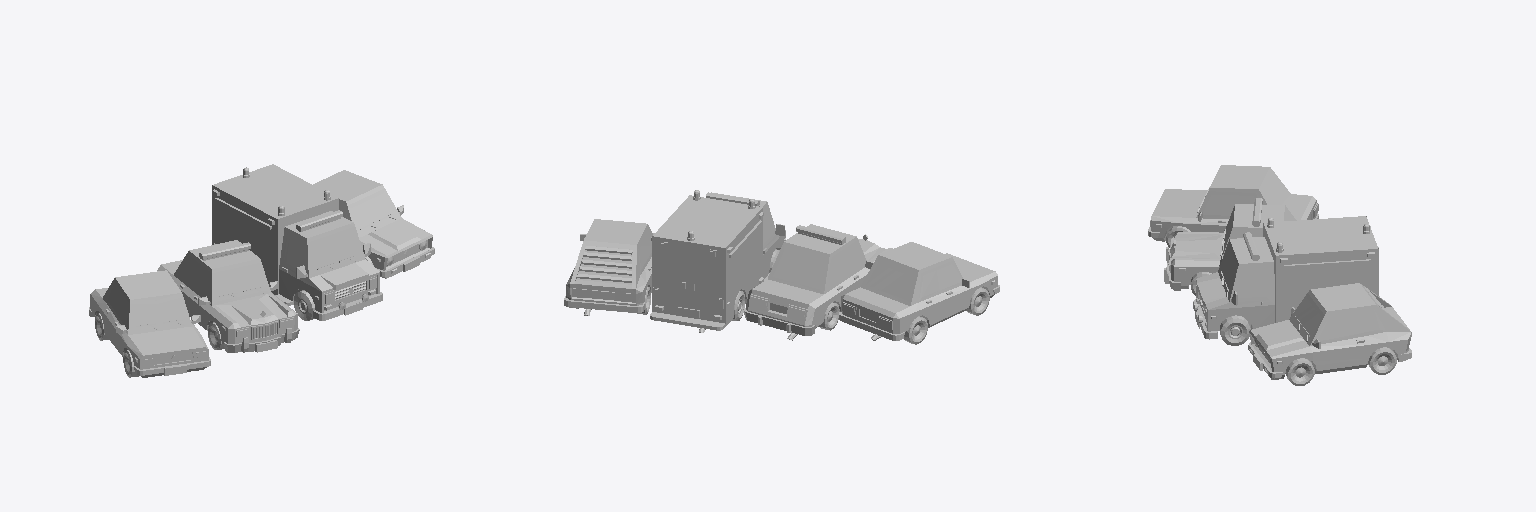
The model's file is 4_vfibys_cars.obj.
3 renders of one model, left to right at view 1: azimuth 30°, elevation 25°; view 2: azimuth 150°, elevation 25°; view 3: azimuth 270°, elevation 25°, orthographic.
Parts seen in each view (by area): view 1: SHTV_Model_Car_Ambulance_Cube.065, SHTV_Model_Car_Police_Cube.002, SHTV_Model_Car_Sedan_Cube.005, SHTV_Model_Car_Hatchback_Cube.243; view 2: SHTV_Model_Car_Ambulance_Cube.065, SHTV_Model_Car_Sedan_Cube.005, SHTV_Model_Car_Police_Cube.002, SHTV_Model_Car_Hatchback_Cube.243; view 3: SHTV_Model_Car_Ambulance_Cube.065, SHTV_Model_Car_Hatchback_Cube.243, SHTV_Model_Car_Sedan_Cube.005, SHTV_Model_Car_Police_Cube.002, SHTV_Model_Wheel_Ambulance_FL_Cylinder.081, SHTV_Model_Wheel_Hatchback_FL_Cylinder.040, SHTV_Model_Wheel_Hatchback_BL_Cylinder.041.
Part boxes in pixels (x1,y1,x2,y2): SHTV_Model_Car_Ambulance_Cube.065: (212,164,382,320); SHTV_Model_Car_Police_Cube.002: (157,240,299,352); SHTV_Model_Car_Sedan_Cube.005: (89,270,210,377); SHTV_Model_Car_Hatchback_Cube.243: (313,170,434,278); SHTV_Model_Car_Ambulance_Cube.065: (650,190,785,332); SHTV_Model_Car_Sedan_Cube.005: (839,242,999,340); SHTV_Model_Car_Police_Cube.002: (743,224,892,340); SHTV_Model_Car_Hatchback_Cube.243: (564,219,654,315); SHTV_Model_Car_Ambulance_Cube.065: (1193,216,1379,339); SHTV_Model_Car_Hatchback_Cube.243: (1248,283,1411,379); SHTV_Model_Car_Sedan_Cube.005: (1148,165,1318,241); SHTV_Model_Car_Police_Cube.002: (1164,198,1296,290); SHTV_Model_Wheel_Ambulance_FL_Cylinder.081: (1220,315,1250,345); SHTV_Model_Wheel_Hatchback_FL_Cylinder.040: (1285,358,1314,385); SHTV_Model_Wheel_Hatchback_BL_Cylinder.041: (1368,347,1396,374).
Size of the model in its own units: 10.34 by 2.71 by 6.74.